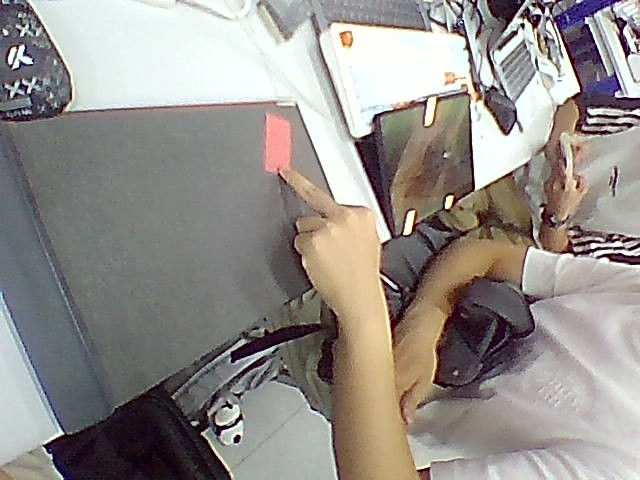card: (265, 113, 290, 173)
